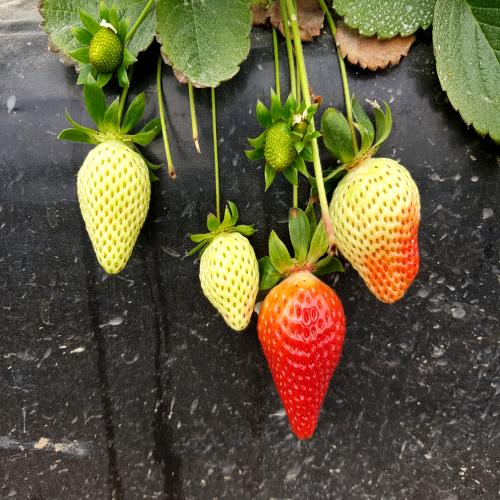partially-ripe: (325, 155, 431, 306)
ripe: (260, 268, 352, 444)
